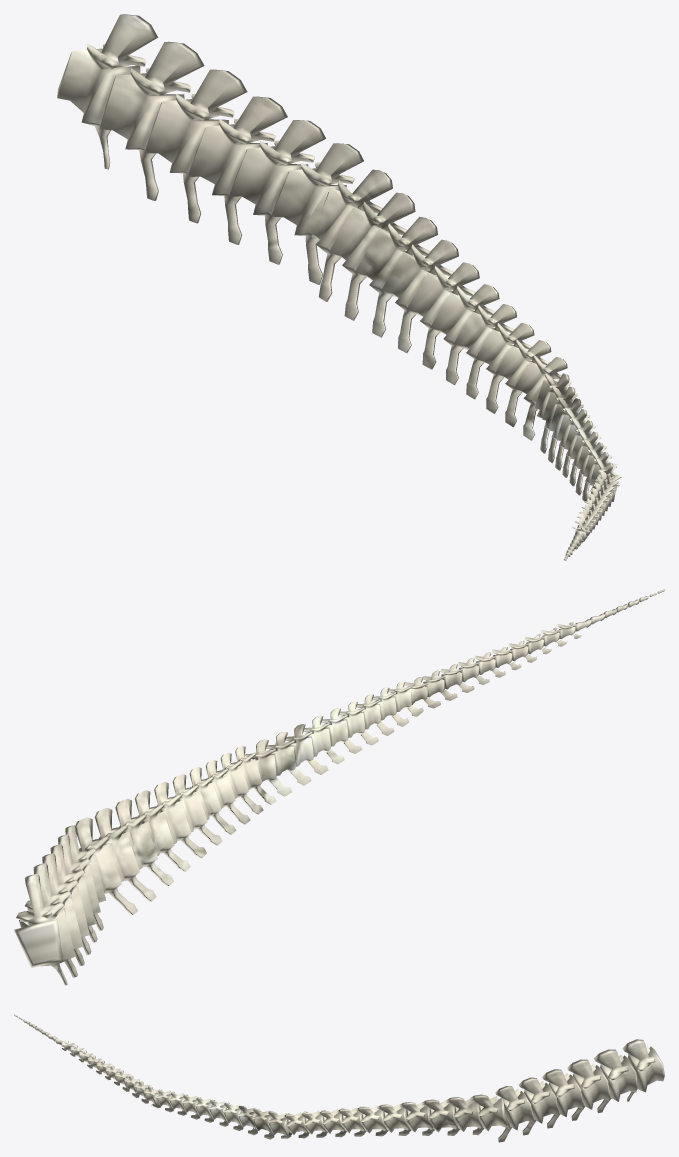
Rendered from dinoCola.obj.
The picture shows the model from 3 angles, top to bottom: view 1: azimuth 30°, elevation 25°; view 2: azimuth 150°, elevation 25°; view 3: azimuth 270°, elevation 25°; orthographic projection. The views are drawn at different scales.
Parts seen in each view (by area): view 1: cola; view 2: cola; view 3: cola.
Boxes of the visible parts, x1,y1,x2,y2 form: cola: [57, 14, 621, 560]; cola: [14, 589, 664, 985]; cola: [14, 1014, 664, 1142].
Bounding box in the file's own units: 3.39 × 2.02 × 13.2.
Materials: 1 (1 with a texture image).
